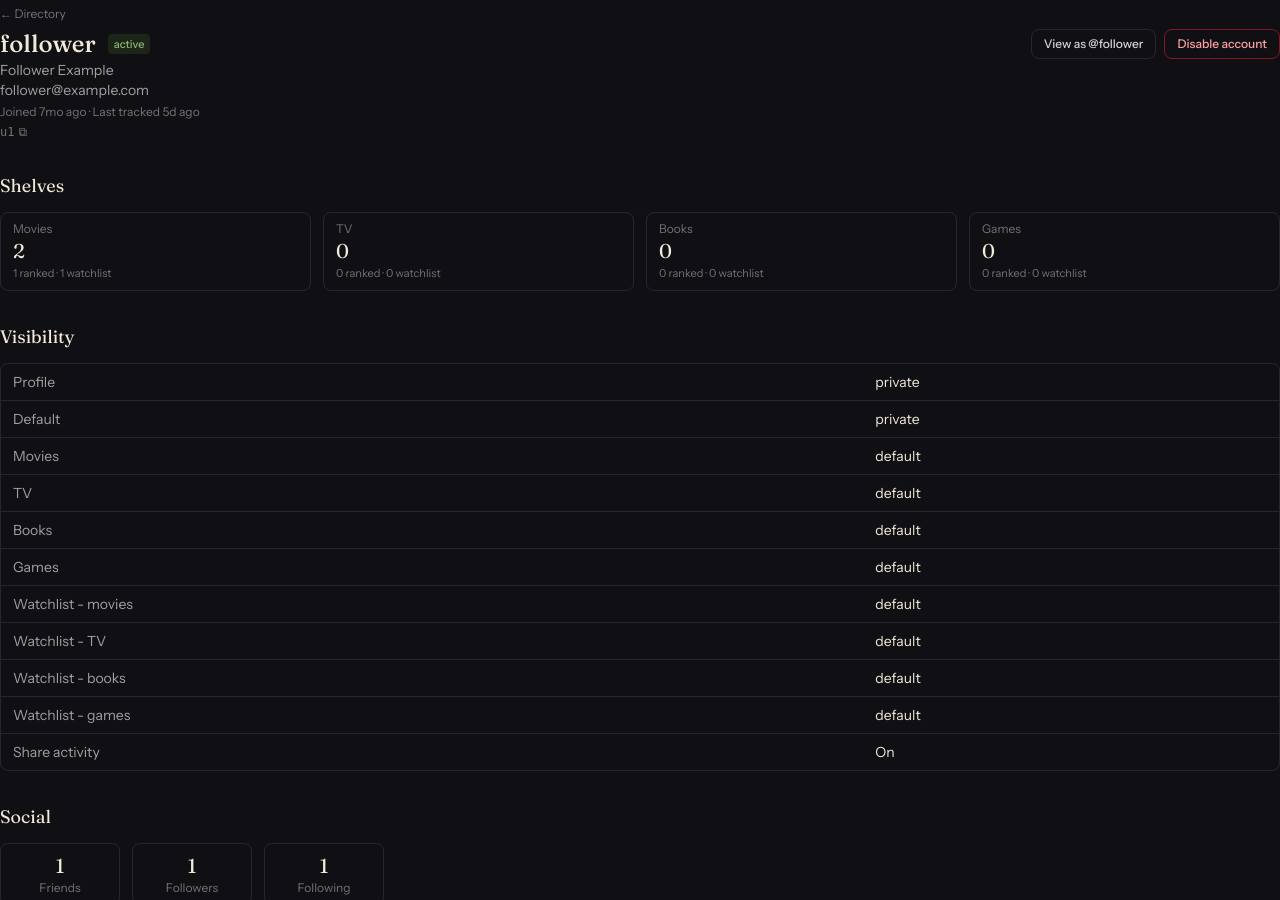
Test case: AdminUserDetailView › surfaces the guard error message rather than a generic failure
Click the button "Disable account": (1222, 44) [1164,29,1279,59]
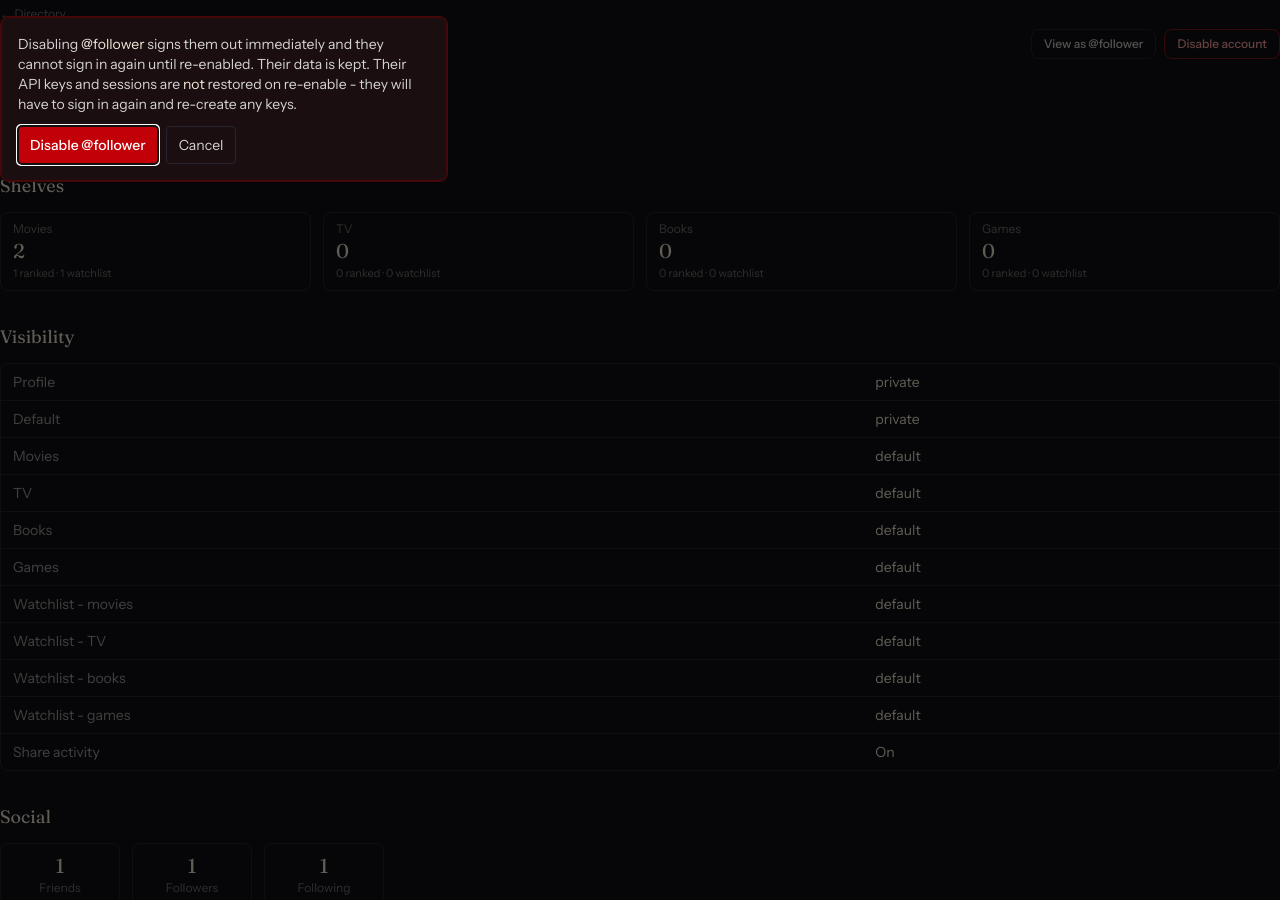
Click the button "Disable @follower": (88, 145) [18,126,158,164]
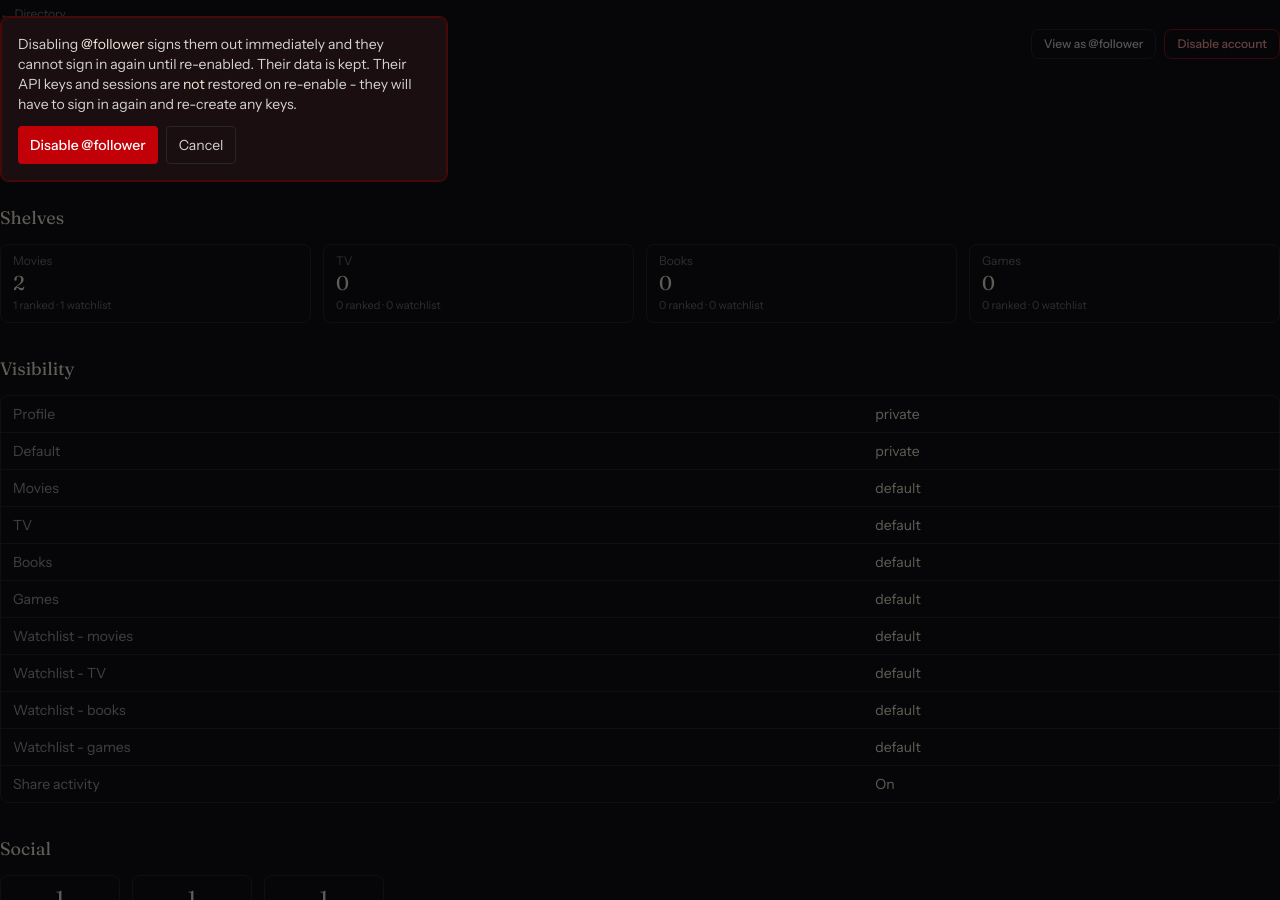
Expected: the text "active" is shown, [108,34,150,54]
Expected: the message reads "You cannot disable your own account.", [0,153,241,171]
